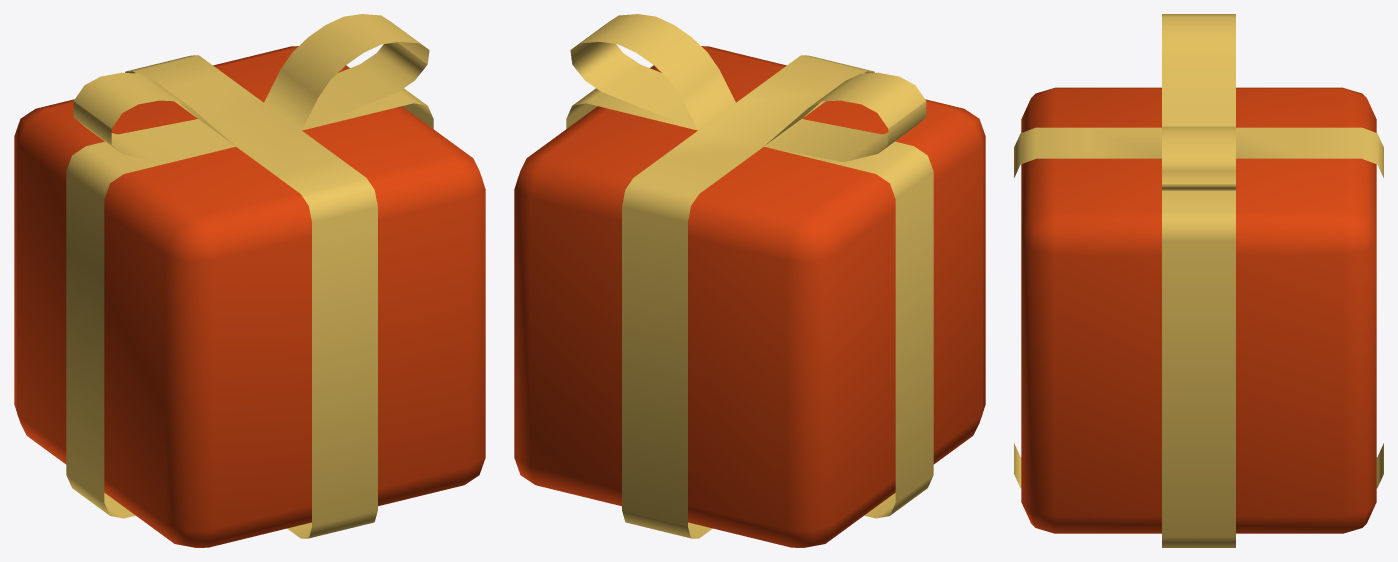
The model's file is christmasGiftVisual-ktx.glb.
3 renders of one model, left to right at view 1: azimuth 30°, elevation 25°; view 2: azimuth 150°, elevation 25°; view 3: azimuth 270°, elevation 25°, orthographic. The views are drawn at different scales.
Visible parts, largest first — view 1: giftBody, giftRibbon; view 2: giftBody, giftRibbon; view 3: giftBody, giftRibbon.
Boxes of the visible parts, left/top/right/bottom form: giftBody: left=14, top=46, right=485, bottom=547; giftRibbon: left=66, top=14, right=433, bottom=538; giftBody: left=514, top=46, right=985, bottom=547; giftRibbon: left=566, top=14, right=933, bottom=538; giftBody: left=1021, top=87, right=1376, bottom=533; giftRibbon: left=1014, top=14, right=1383, bottom=547.
Size of the model in its own units: 1.99 by 2.38 by 1.99.
